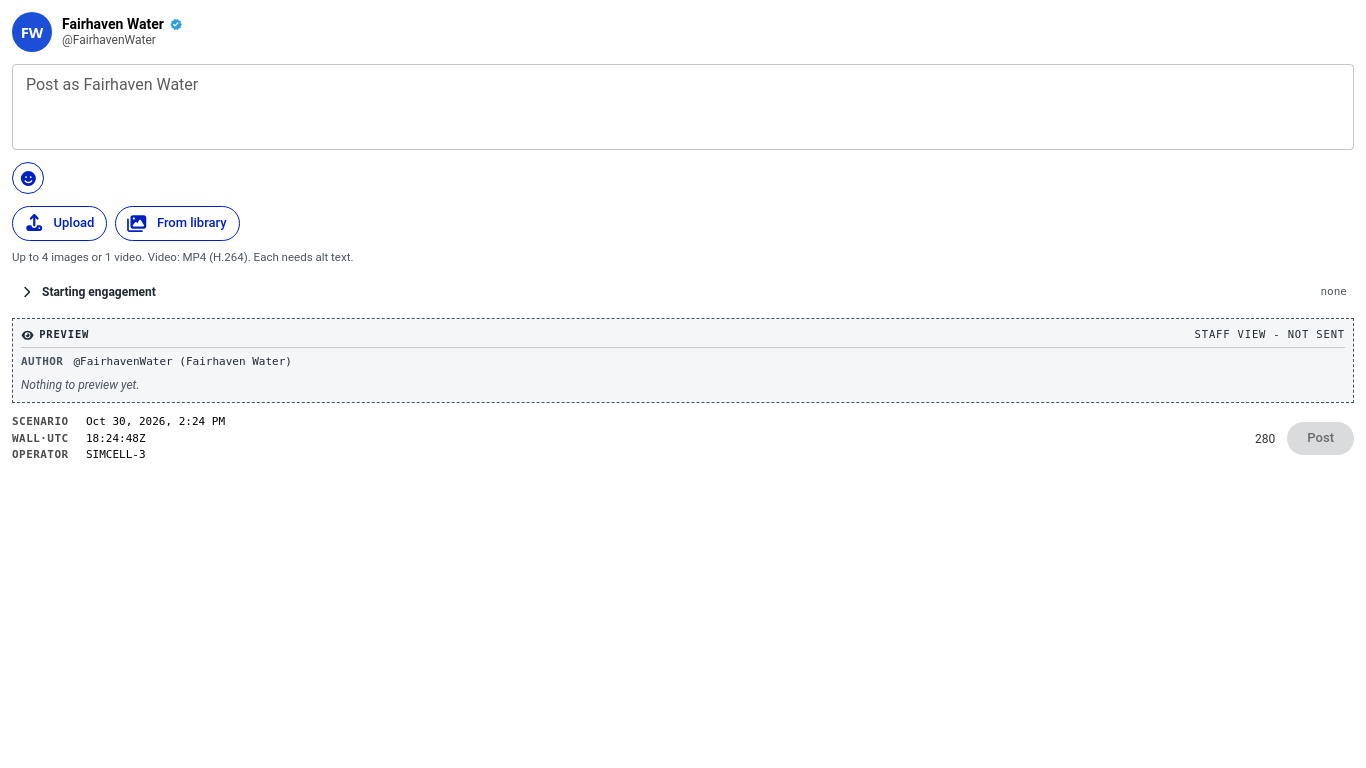
Scenario: PersonaComposer (live) — media, reply and baseline on the body › sends the starting engagement as engagementBaseline
Type "Trending." into the text box labelled "Post as Fairhaven Water".
click(683, 107); type("Trending.")  # box [26,72,1340,142]
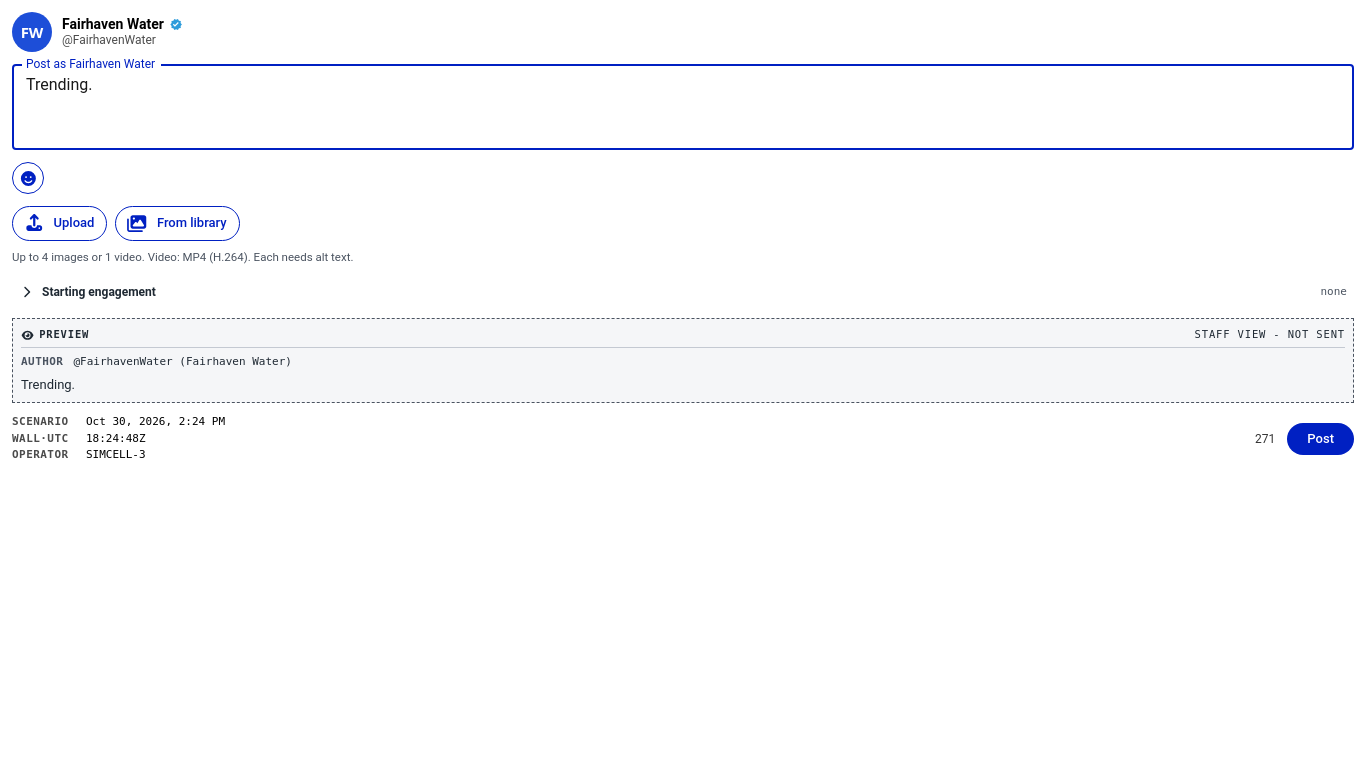
Click the button "Starting engagement none".
click(99, 292)  # box [12,278,1354,306]
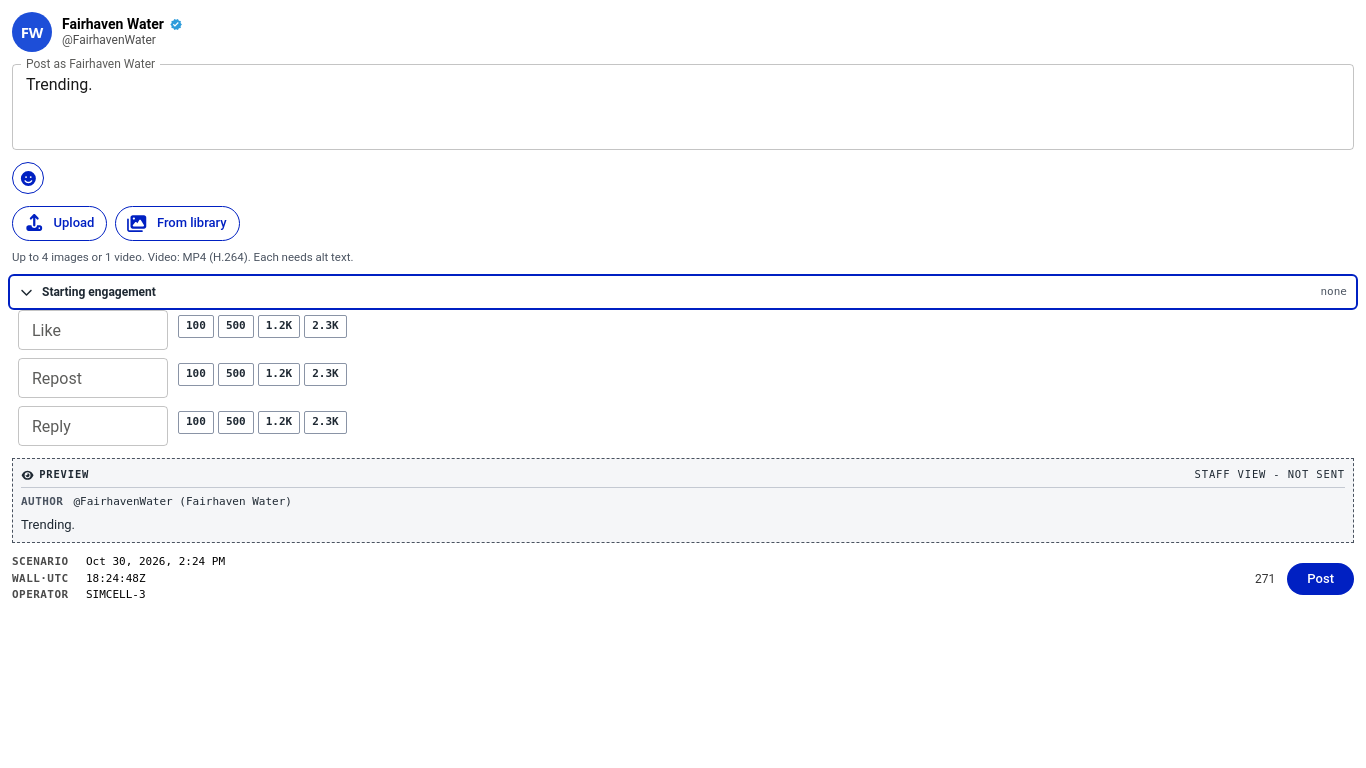
Click the button named "Set Like to 2.3K".
click(326, 326)  # box [304,315,347,338]
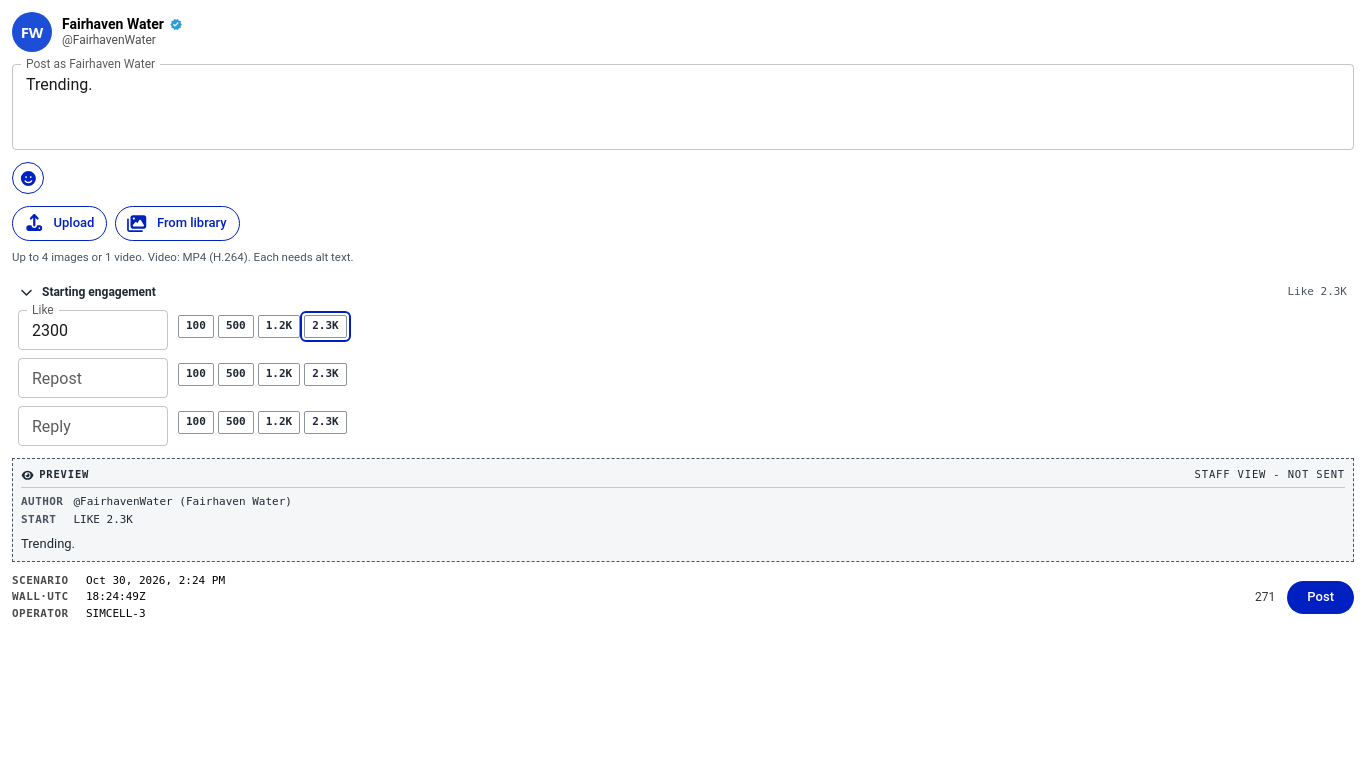
Type "86" into the field labelled "Reply".
click(93, 426); type("86")  # box [18,406,168,446]
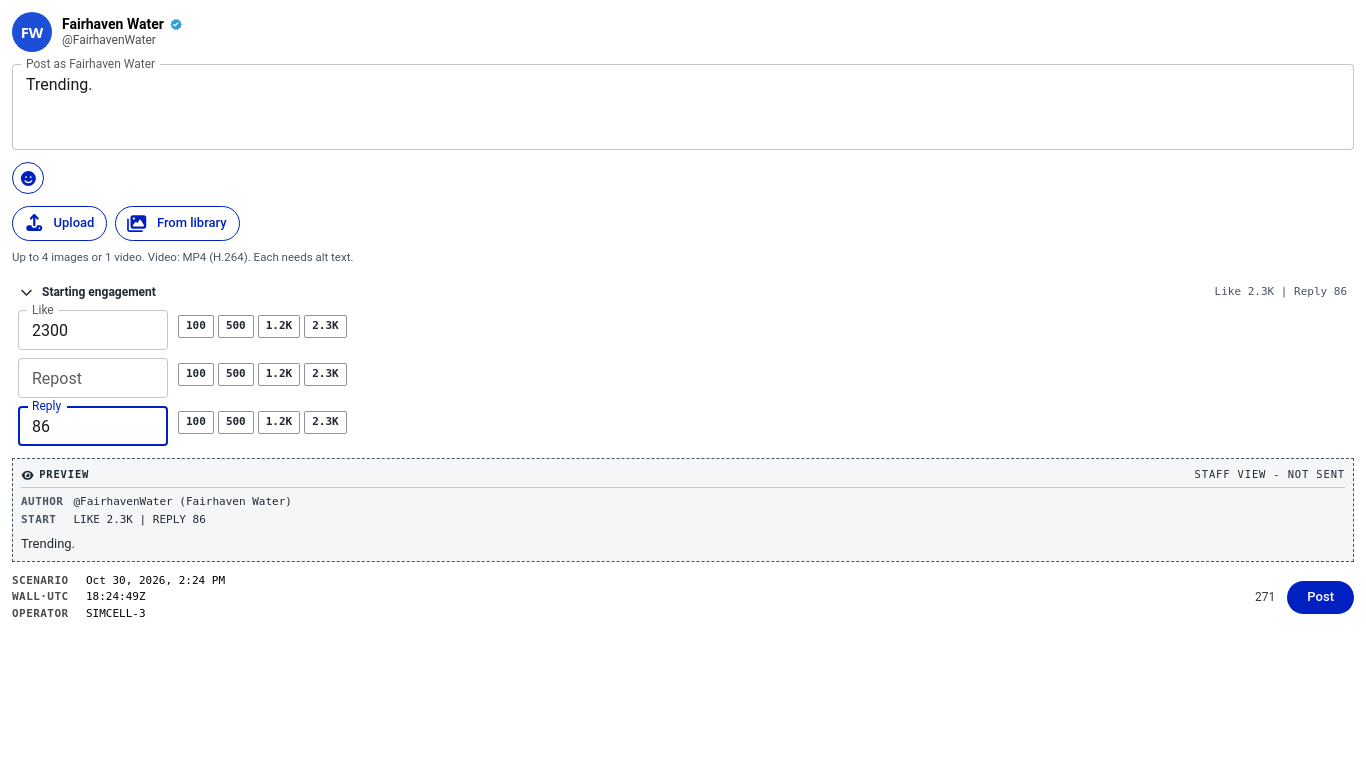
Click the button "Post".
click(1321, 597)  # box [1287,581,1354,614]
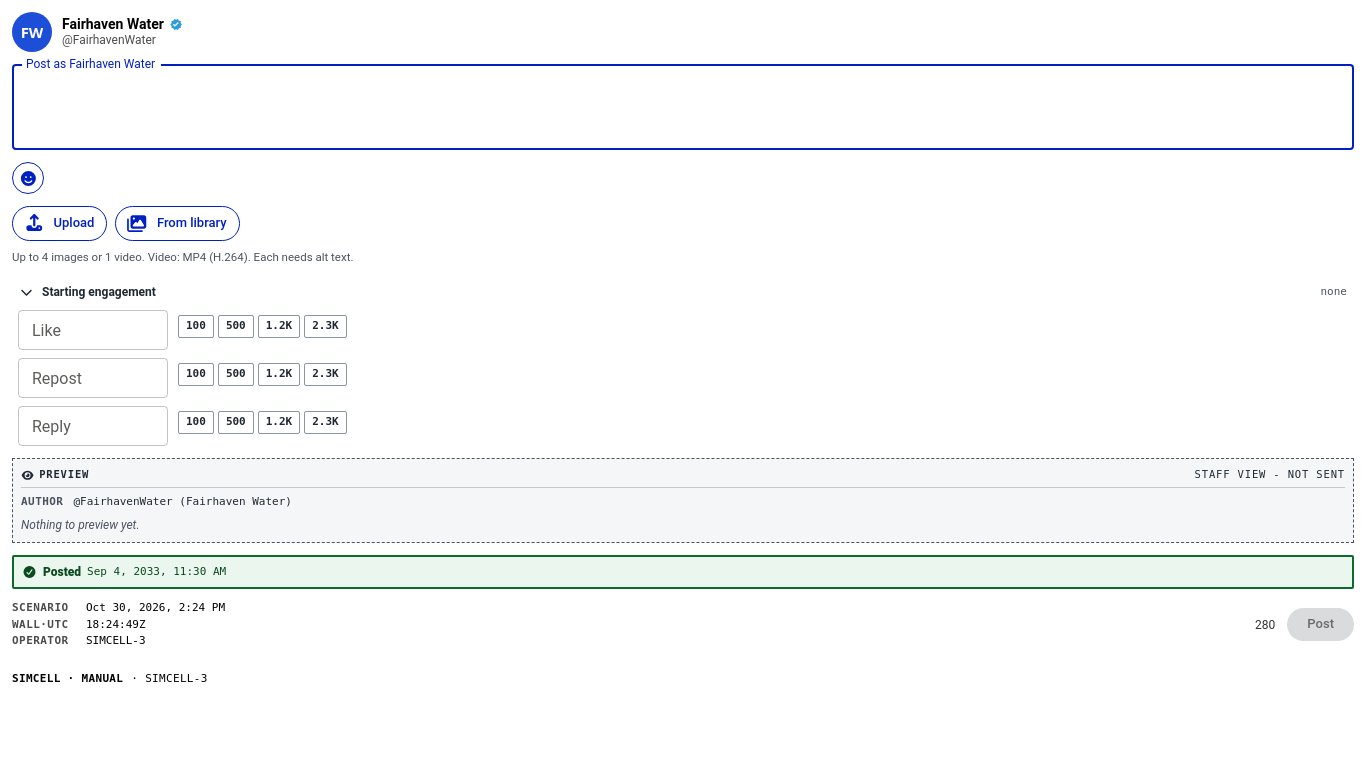
Result: the message "Posted Sep 4, 2033, 11:30 AM" is shown at [12,555,1354,589]
